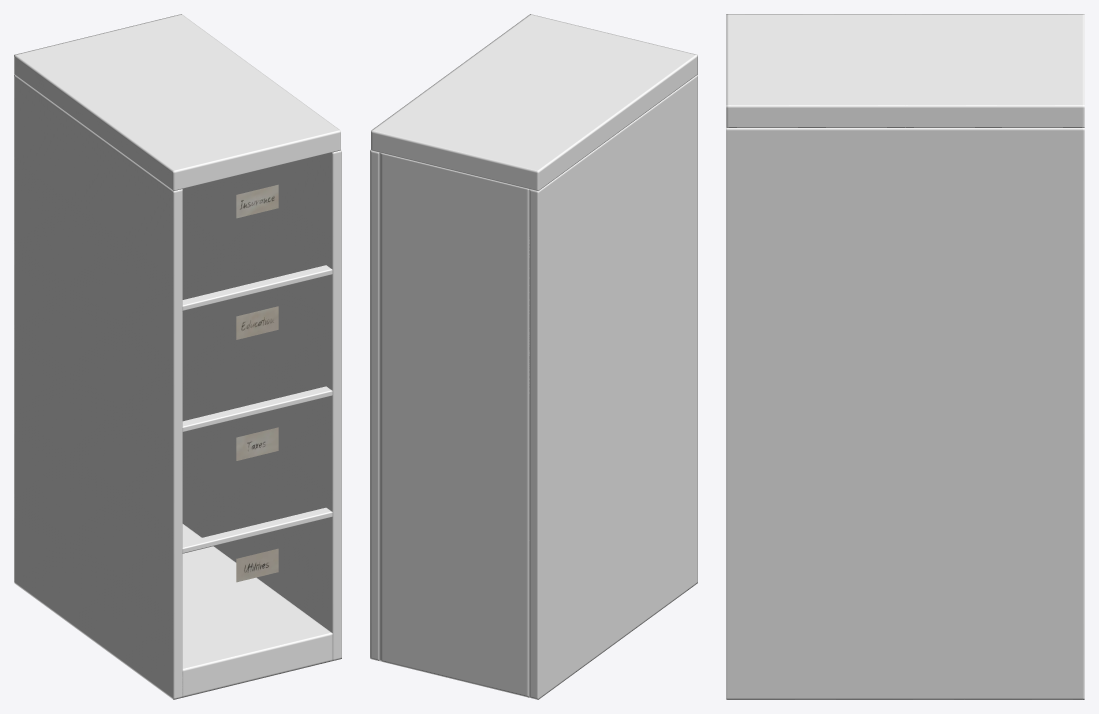
File: cabinet.glb
3 views of the same model, side by side, from view 1: azimuth 30°, elevation 25°; view 2: azimuth 150°, elevation 25°; view 3: azimuth 270°, elevation 25° (orthographic). The views are drawn at different scales.
Visible parts, largest first — view 1: Cube.004, Cube.005, Cube.008, Cube.016, Plane.004, Plane.019, Plane.007, Plane.013; view 2: Cube.004, Cube.012, Cube.005; view 3: Cube.004, Cube.005.
Boxes of the visible parts, x1=… form: Cube.004: x1=14, y1=74, x2=341, y2=699; Cube.005: x1=14, y1=14, x2=340, y2=190; Cube.008: x1=182, y1=524, x2=332, y2=697; Cube.016: x1=182, y1=265, x2=332, y2=553; Plane.004: x1=236, y1=184, x2=278, y2=218; Plane.019: x1=236, y1=548, x2=278, y2=582; Plane.007: x1=236, y1=306, x2=278, y2=339; Plane.013: x1=236, y1=427, x2=278, y2=460; Cube.004: x1=370, y1=74, x2=697, y2=699; Cube.012: x1=379, y1=152, x2=529, y2=697; Cube.005: x1=371, y1=14, x2=697, y2=190; Cube.004: x1=726, y1=128, x2=1084, y2=699; Cube.005: x1=726, y1=14, x2=1084, y2=127.
Bounding box in the file's own units: 0.4486 × 1.35 × 0.7368.
9 materials, 4 textured.
